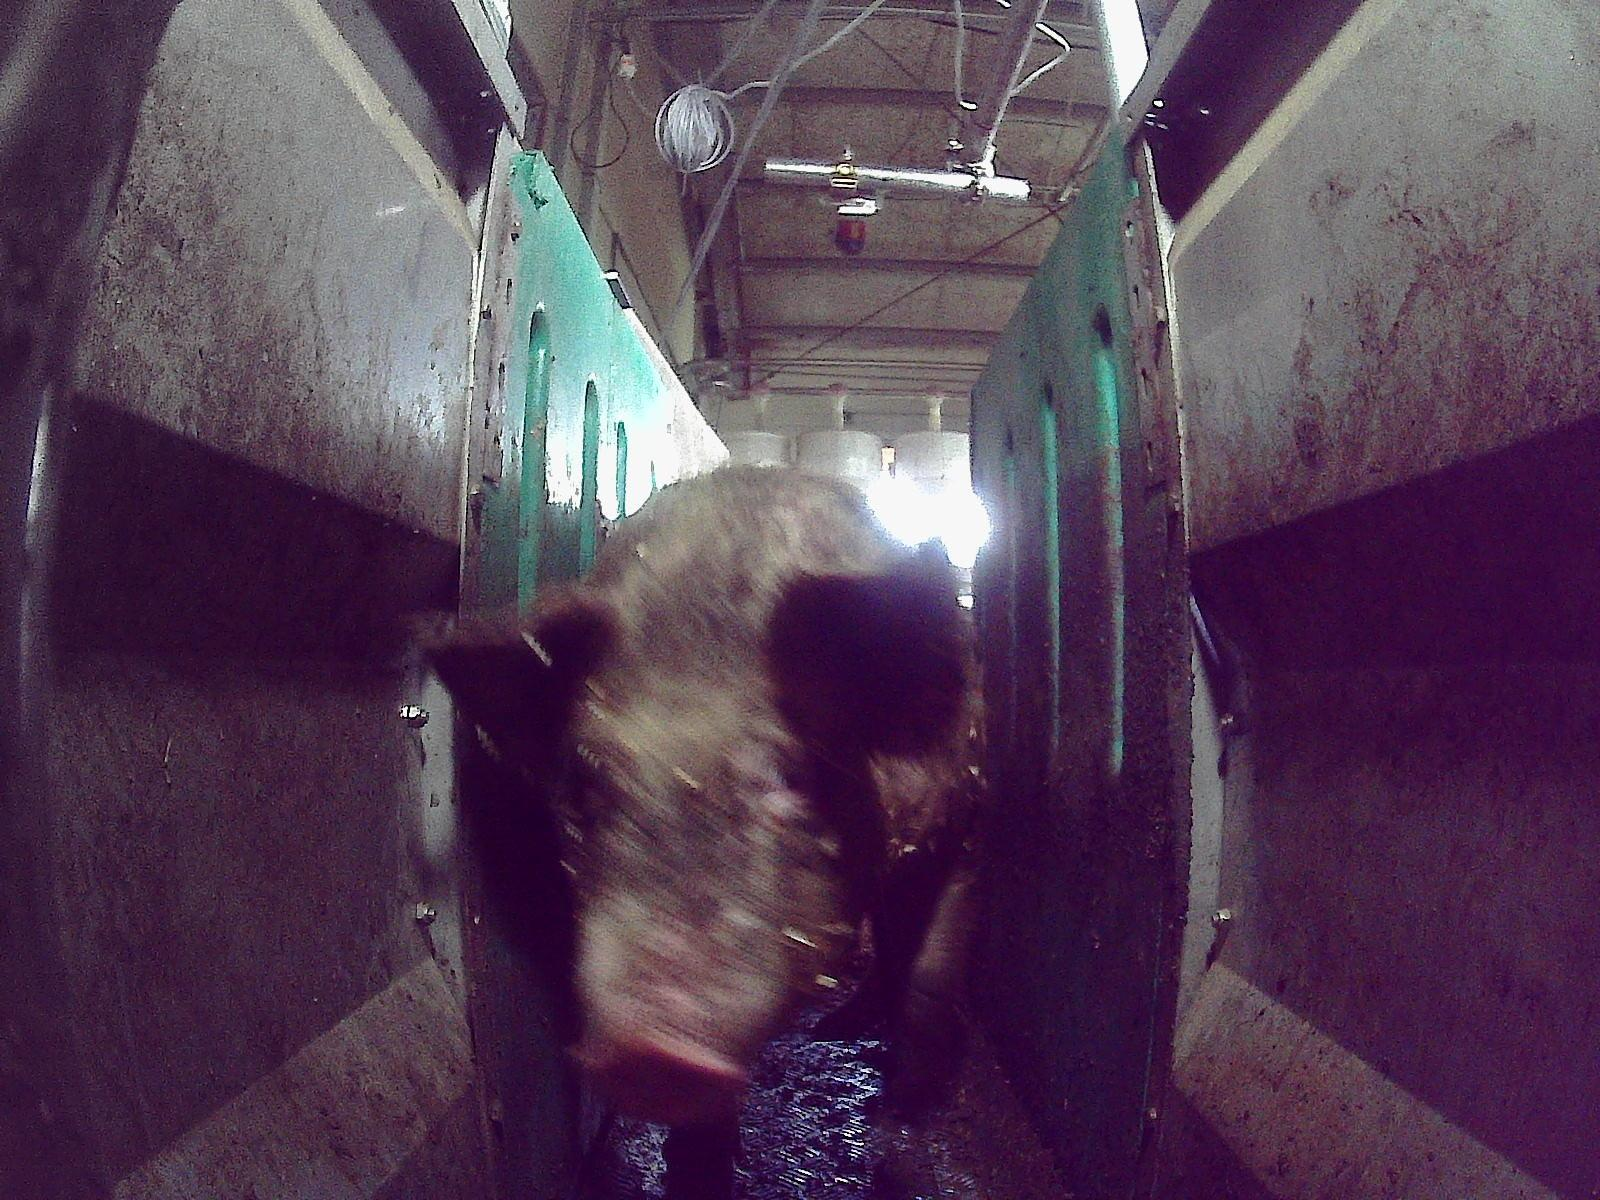Face: (538, 569, 886, 1123)
